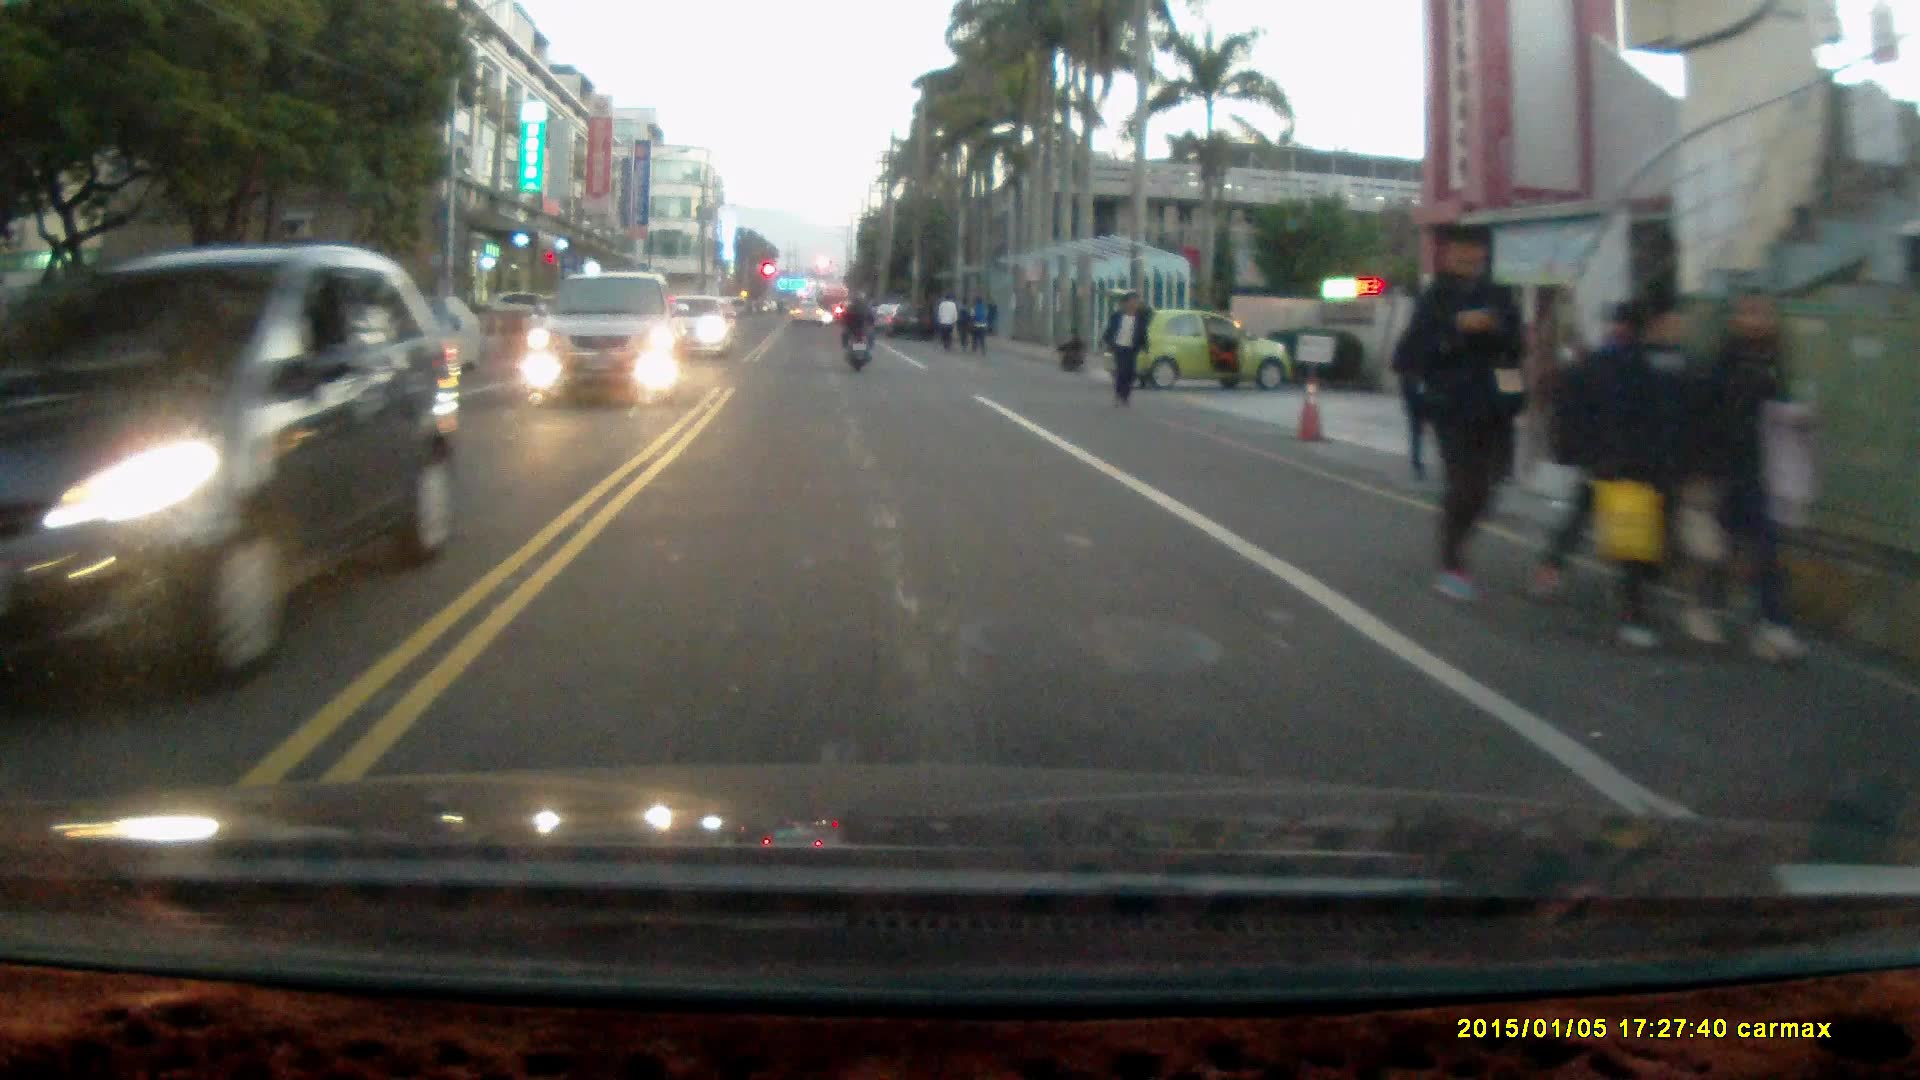pedestrian: (1576, 276, 1706, 657), (1696, 285, 1813, 667), (1412, 220, 1527, 609), (1099, 291, 1147, 408), (965, 289, 991, 353), (1053, 324, 1086, 374), (936, 287, 958, 352)
rider: (836, 288, 876, 371)
vehicle: (4, 239, 488, 655), (524, 270, 688, 399), (1103, 286, 1290, 392), (651, 291, 736, 357)
